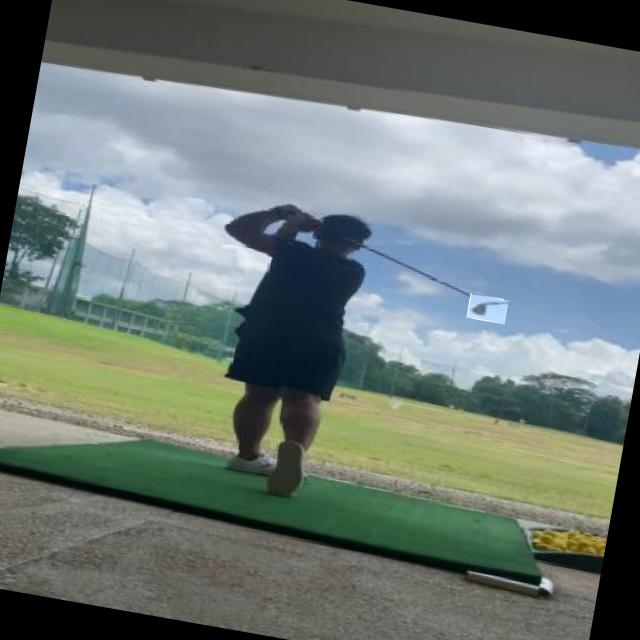club head: (466, 294, 508, 324)
